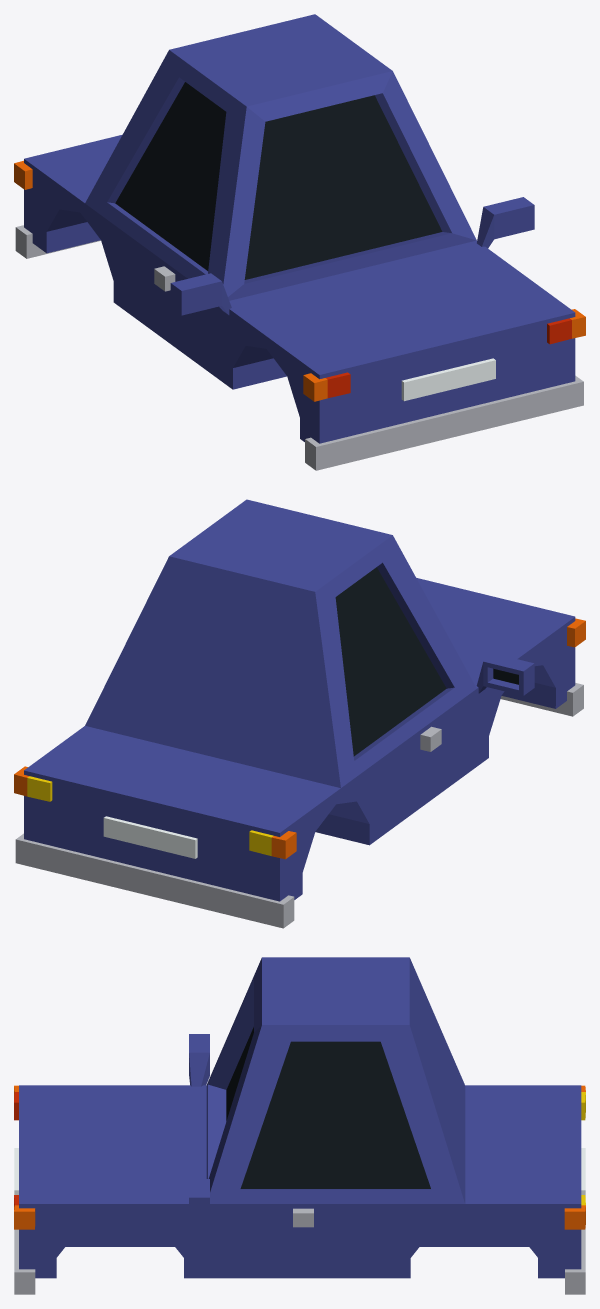
File: Blue Car.fbx
The picture shows the model from 3 angles, top to bottom: view 1: azimuth 30°, elevation 25°; view 2: azimuth 150°, elevation 25°; view 3: azimuth 270°, elevation 25°; orthographic projection. The views are drawn at different scales.
Parts seen in each view (by area): view 1: Cube; view 2: Cube; view 3: Cube.
Part boxes in pixels (left/top/right/bottom): Cube: left=14, top=14, right=585, bottom=470; Cube: left=14, top=499, right=585, bottom=928; Cube: left=14, top=957, right=585, bottom=1294.
Size of the model in its own units: 2.76 by 1.9 by 4.07.
